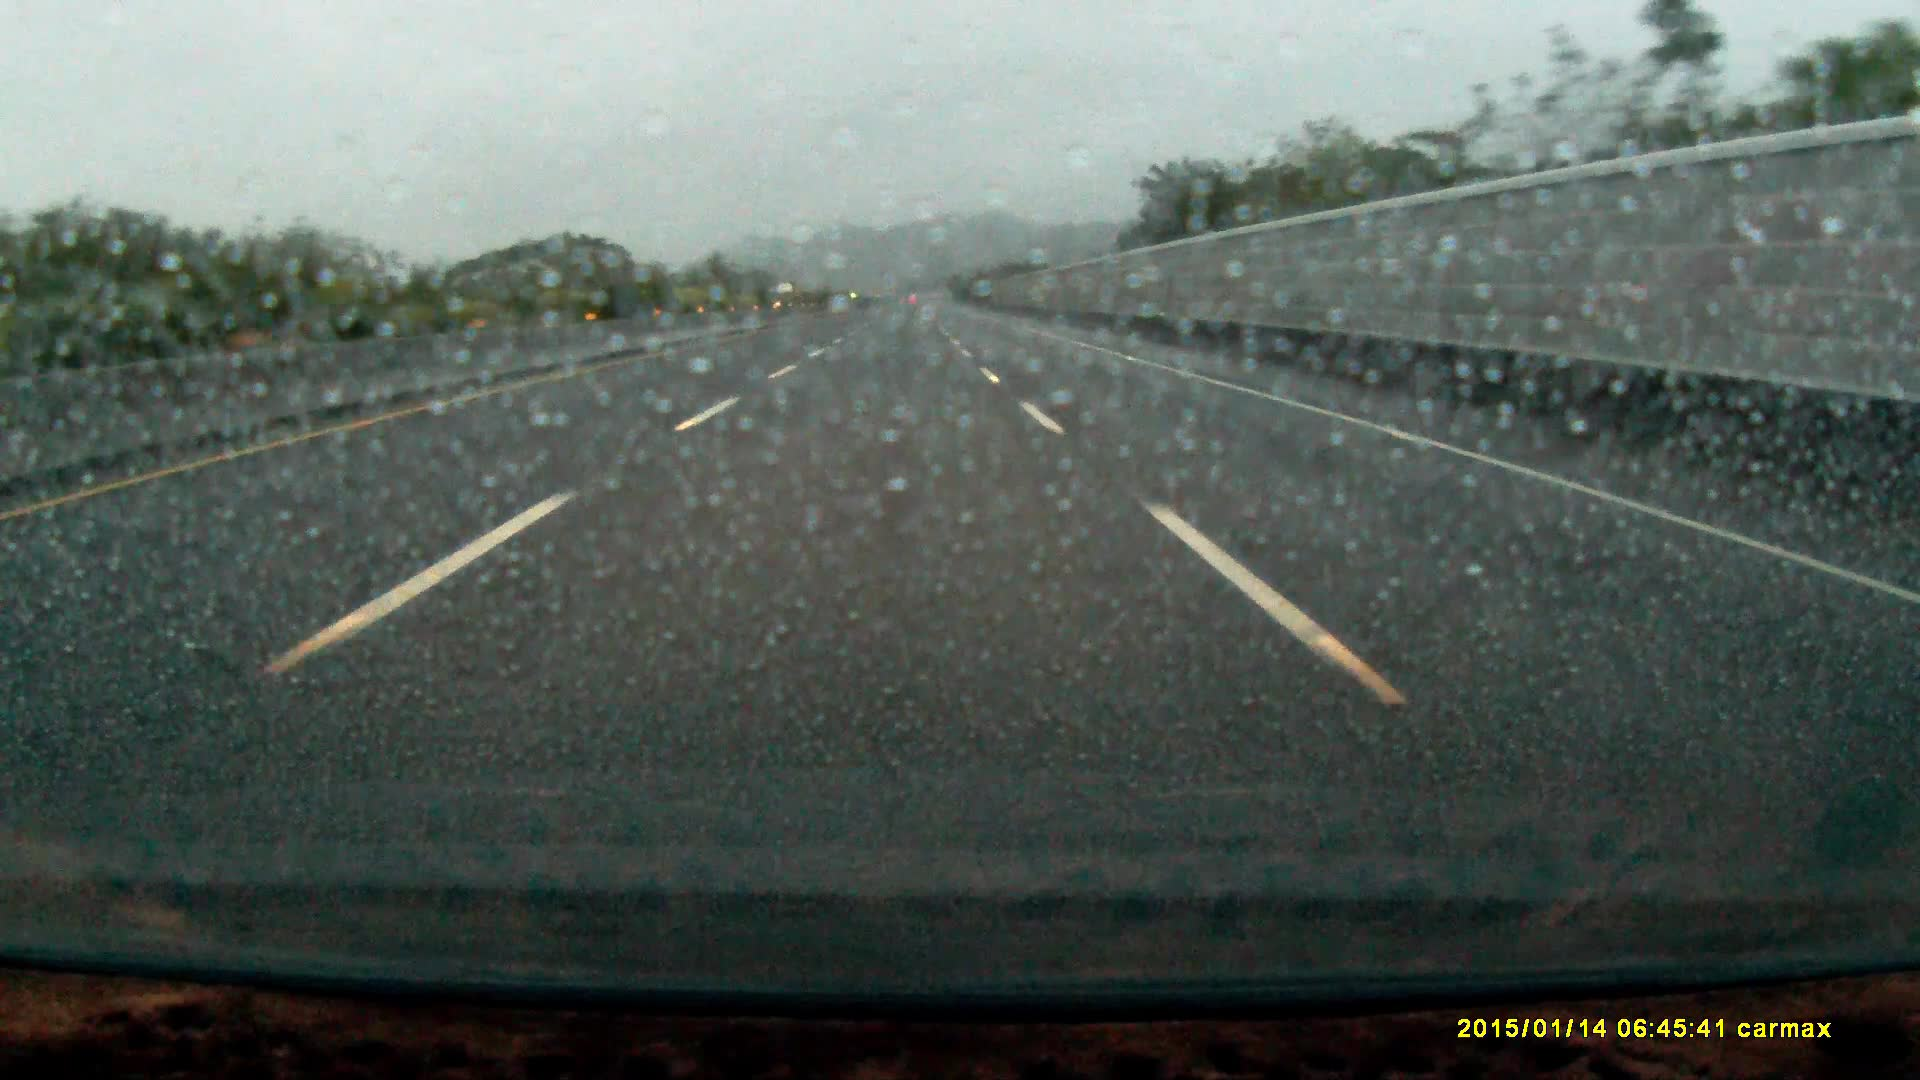vehicle: (775, 280, 802, 307)
